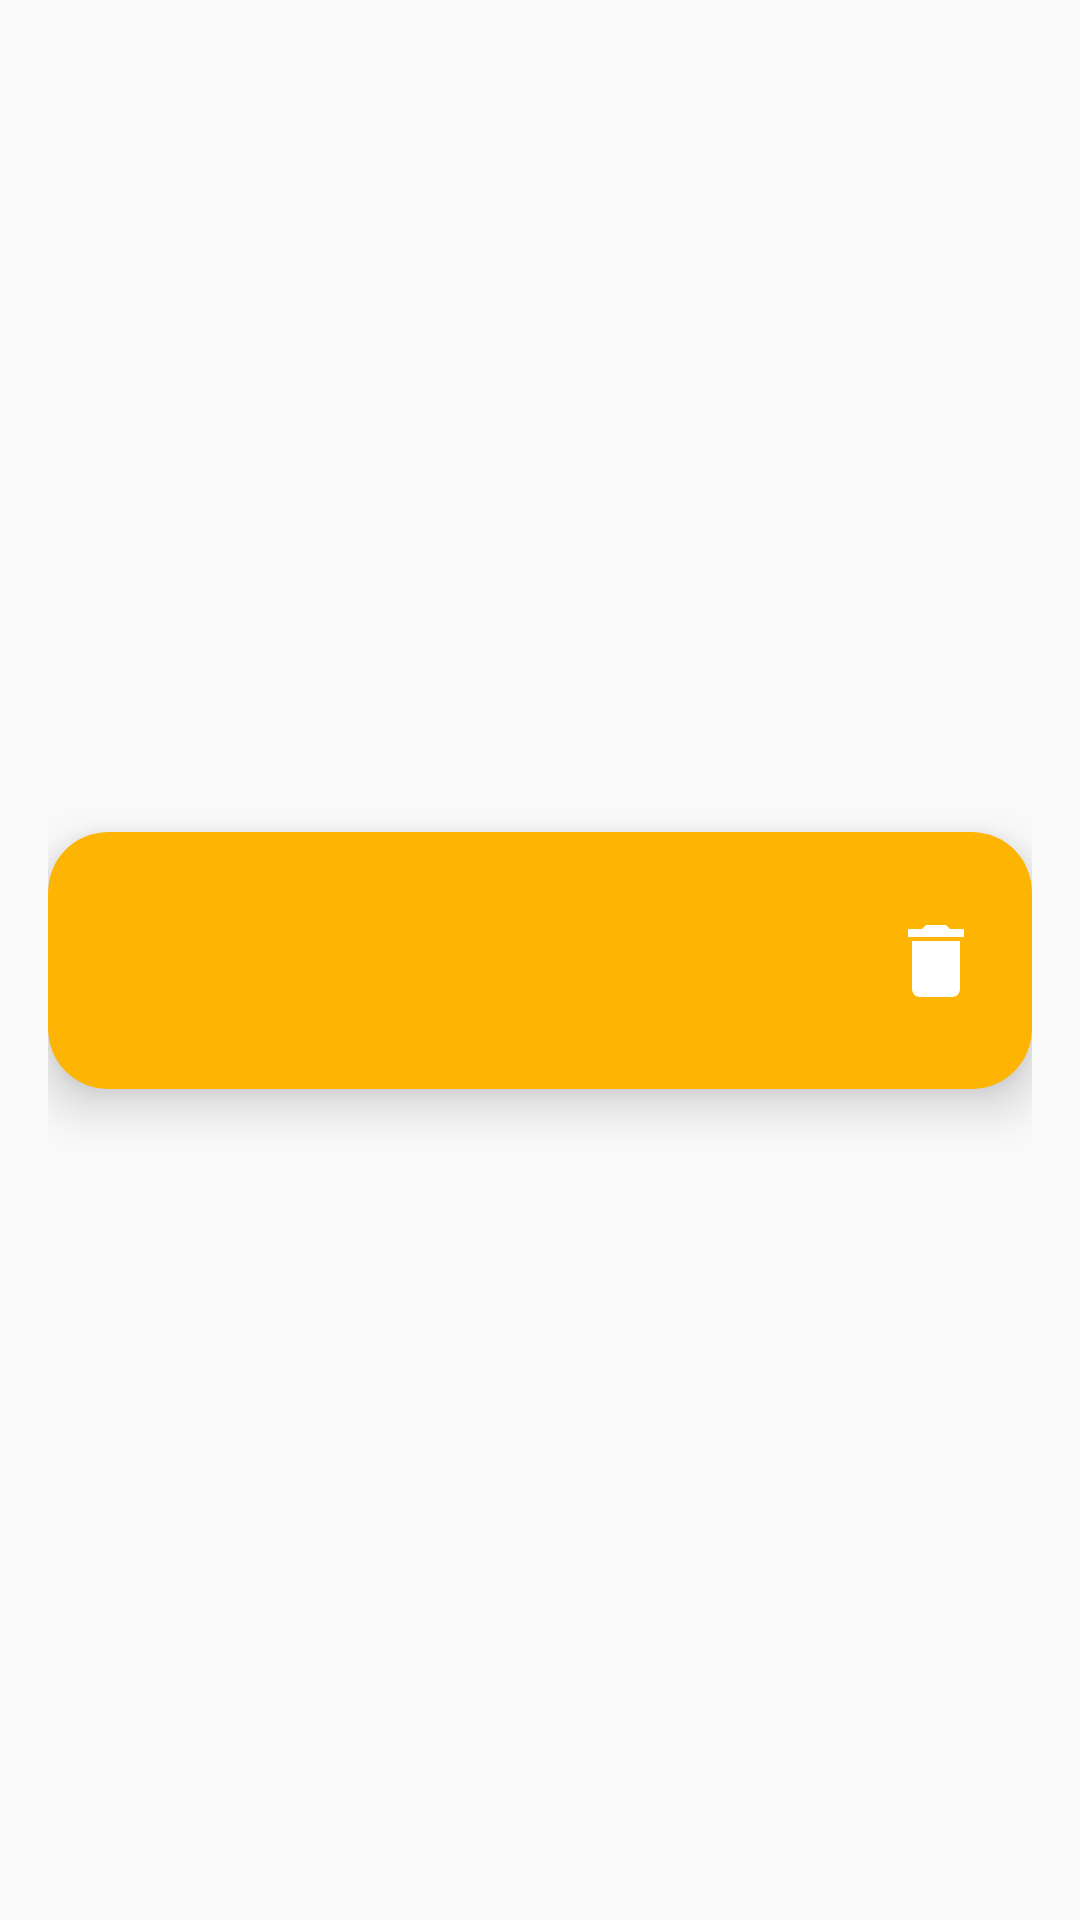

Where to tap for icons on this 1080px x 1920px app screen, as point (x, y):
delete: point (936, 961)
